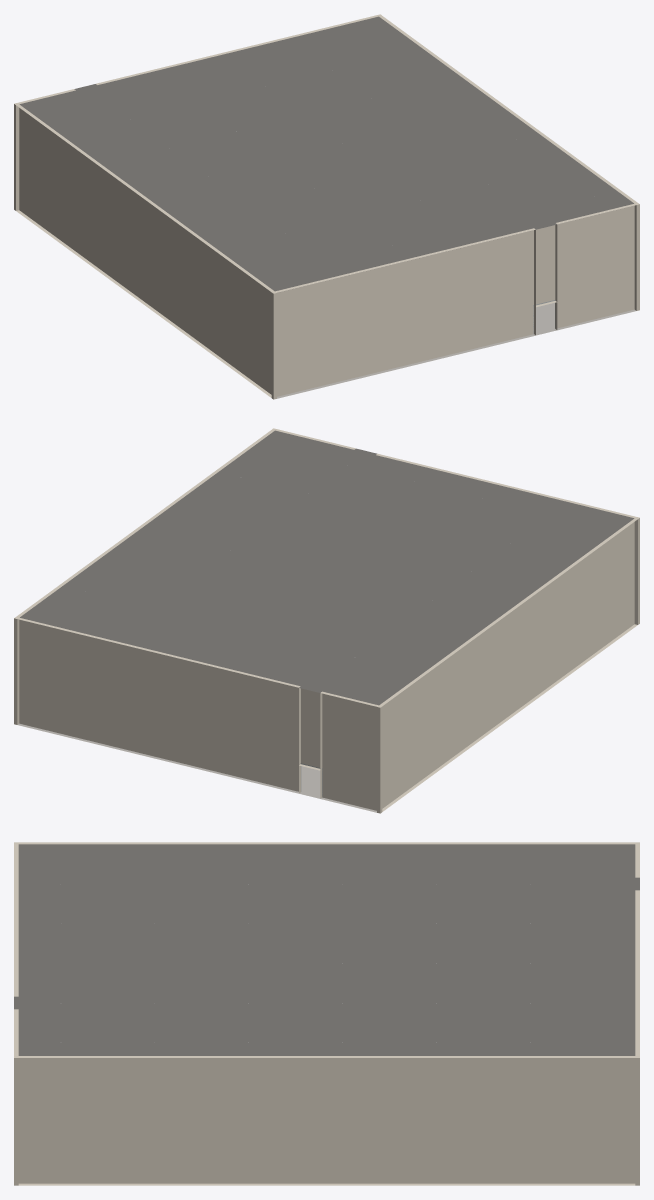
File: club.glb
3 views of the same model, one above another, from view 1: azimuth 30°, elevation 25°; view 2: azimuth 150°, elevation 25°; view 3: azimuth 270°, elevation 25° (orthographic). The views are drawn at different scales.
Parts seen in each view (by area): view 1: club; view 2: club; view 3: club.
Boxes of the visible parts, x1,y1,x2,y2 form: club: [14, 14, 639, 399]; club: [14, 428, 639, 813]; club: [14, 842, 639, 1185].
Bounding box in the file's own units: 32.6 × 9.01 × 40.
